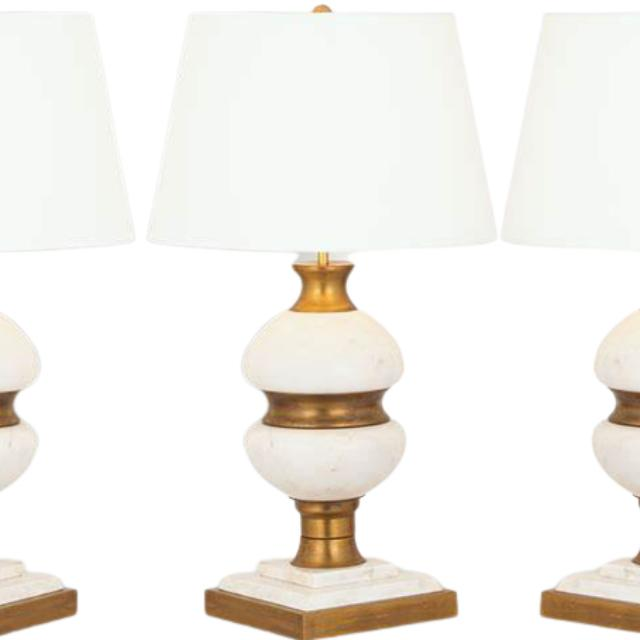lamp: (144, 3, 499, 640), (499, 13, 640, 256), (0, 12, 136, 257)
